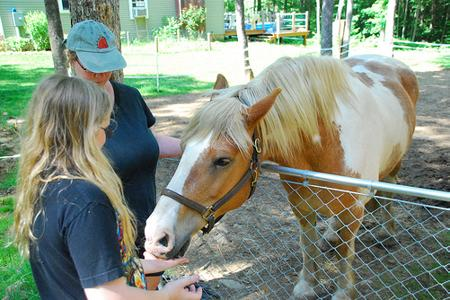person: (16, 75, 205, 300)
